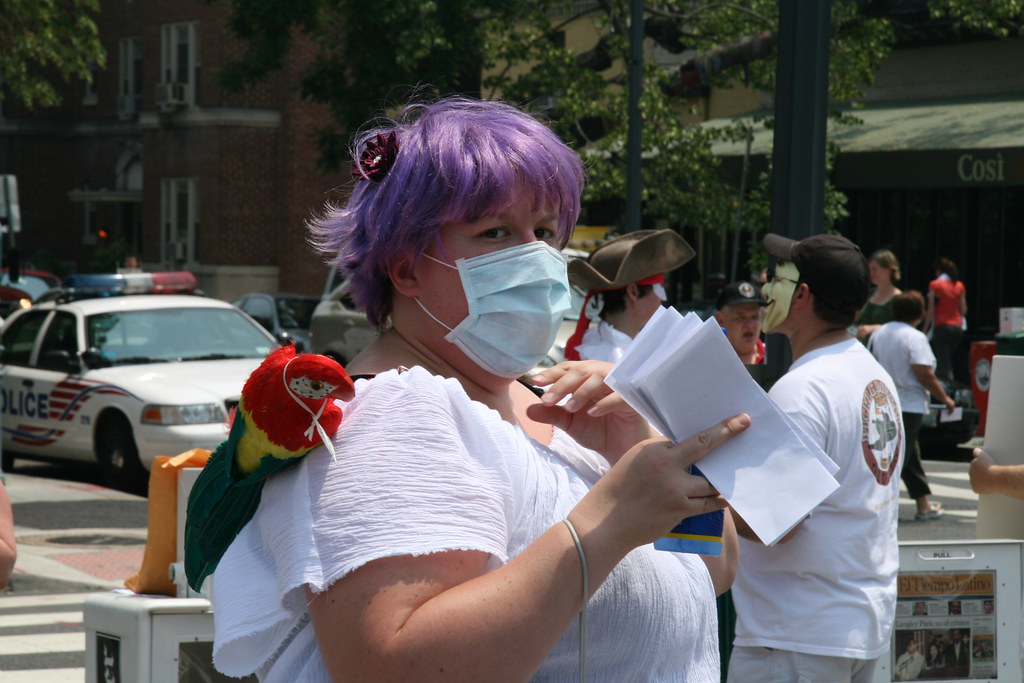mask: (441, 262, 581, 376)
